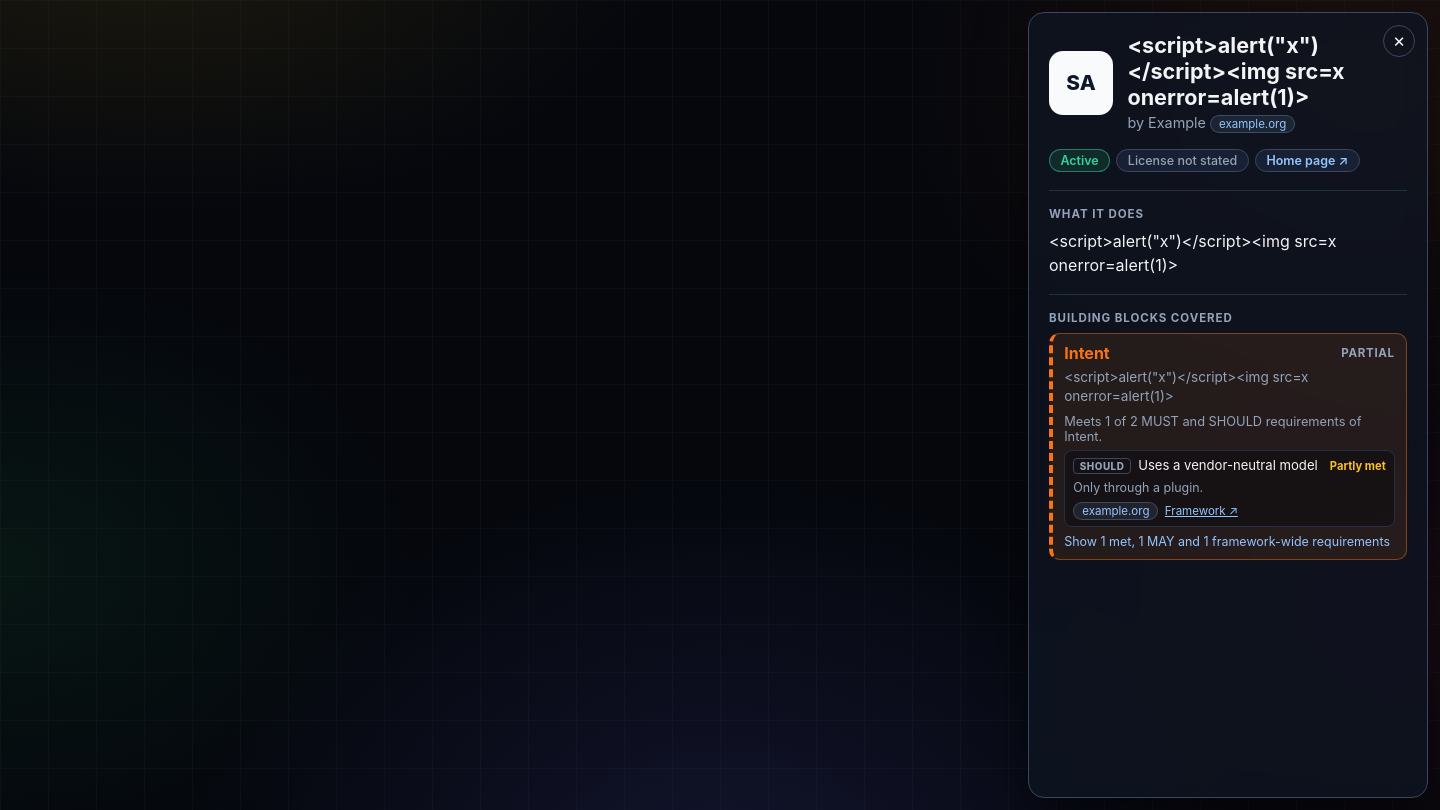
Test: ProductDetails › shows met and MAY requirements on request
The width and height of the screenshot is (1440, 810).
Expected: the text "Represents any network aspect" is not shown
Click the button "Show 1 met, 1 MAY and 1 framework-wide requirements": {"x": 1227, "y": 541} x1=1064 y1=534 x2=1390 y2=549
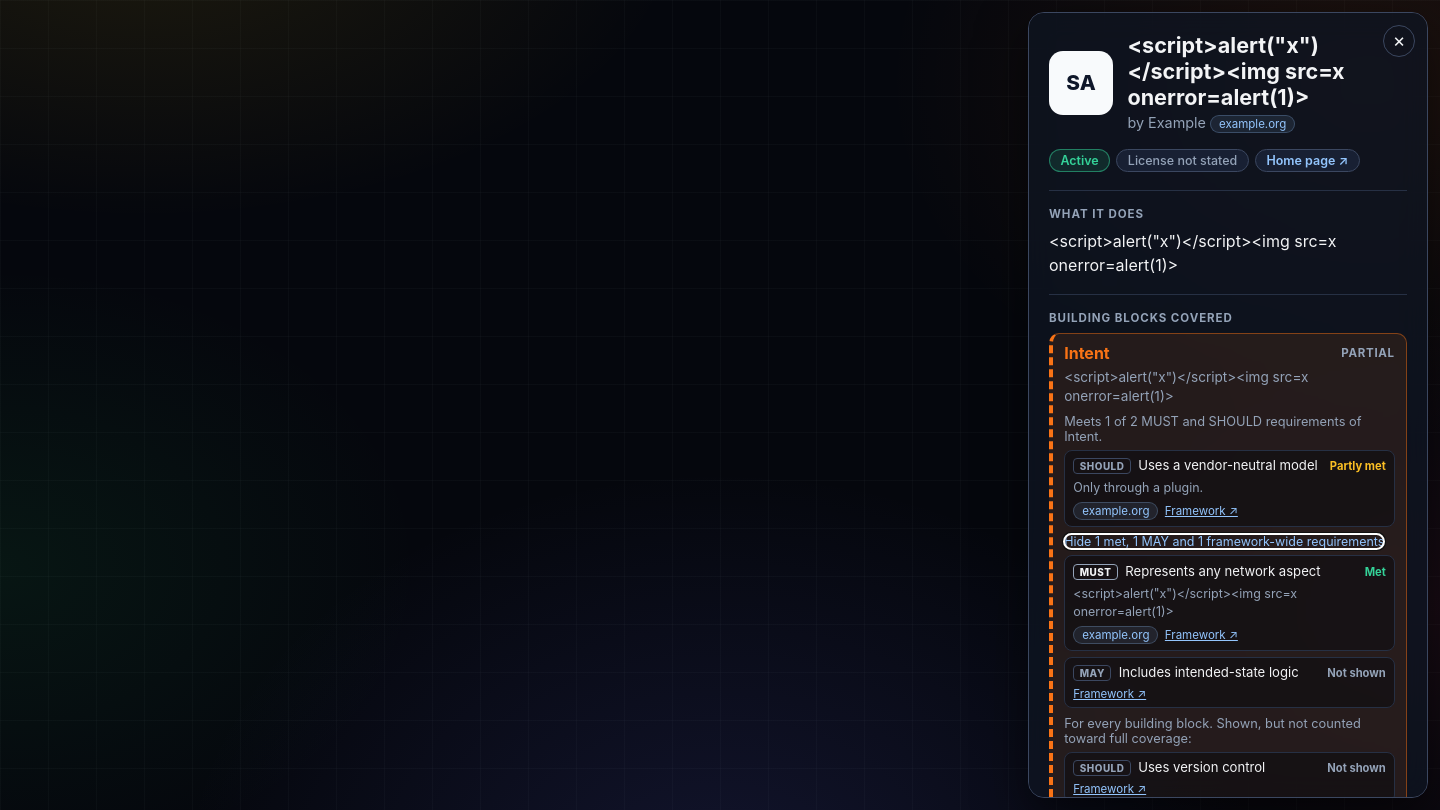
Expected: the text "Represents any network aspect" is shown, x1=1125 y1=563 x2=1321 y2=579
Expected: the text "Includes intended-state logic" is shown, x1=1119 y1=664 x2=1320 y2=682
Expected: the text "Uses version control" is shown, x1=1138 y1=759 x2=1265 y2=775
